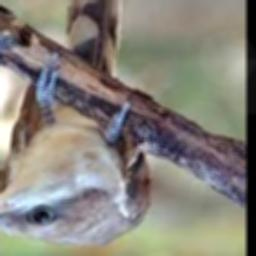Cuckoo: (0, 0, 153, 247)
